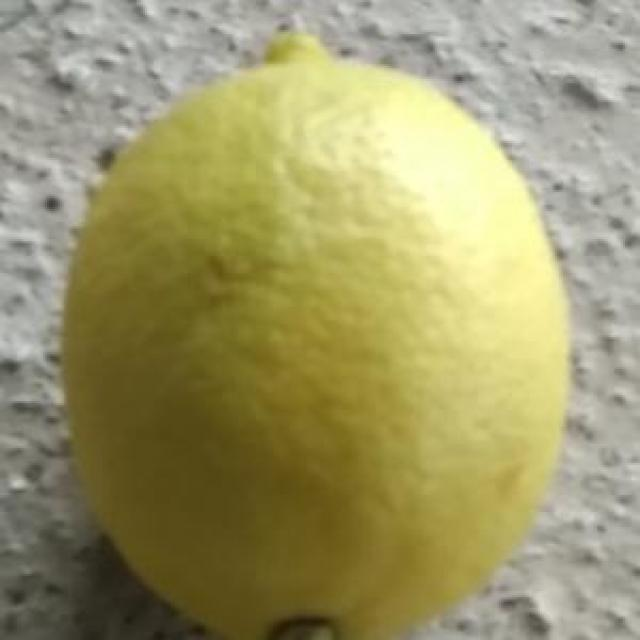lemon: (65, 20, 562, 640)
